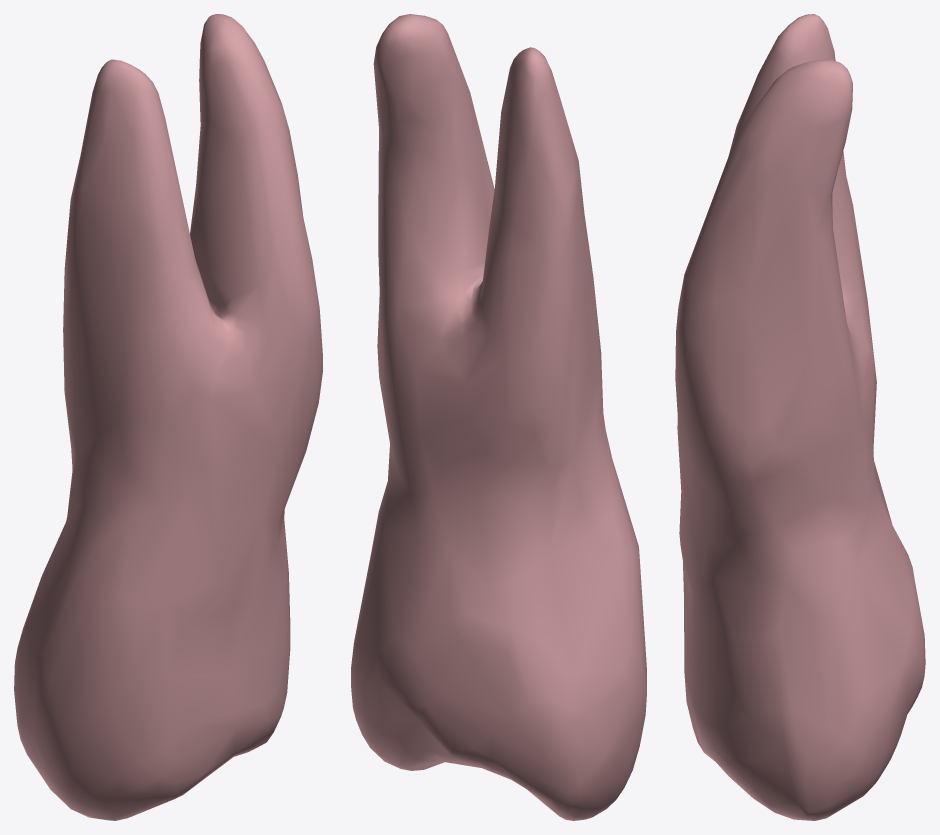
The model's file is fma55688_fj1278.glb.
3 renders of one model, left to right at view 1: azimuth 30°, elevation 25°; view 2: azimuth 150°, elevation 25°; view 3: azimuth 270°, elevation 25°, orthographic. The views are drawn at different scales.
Parts seen in each view (by area): view 1: FMA55688_FJ1278; view 2: FMA55688_FJ1278; view 3: FMA55688_FJ1278.
Boxes of the visible parts, x1,y1,x2,y2 form: FMA55688_FJ1278: [14, 14, 322, 820]; FMA55688_FJ1278: [351, 14, 646, 820]; FMA55688_FJ1278: [675, 14, 925, 820].
Bounding box in the file's own units: 0.00929 × 0.026 × 0.00758.
